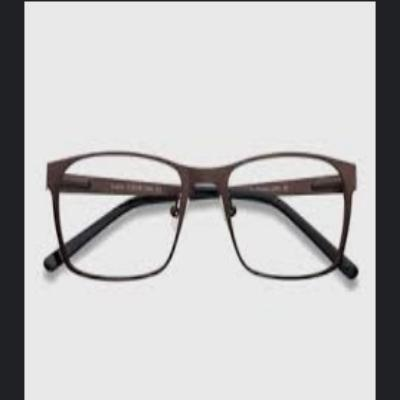glasses: (43, 142, 369, 298)
